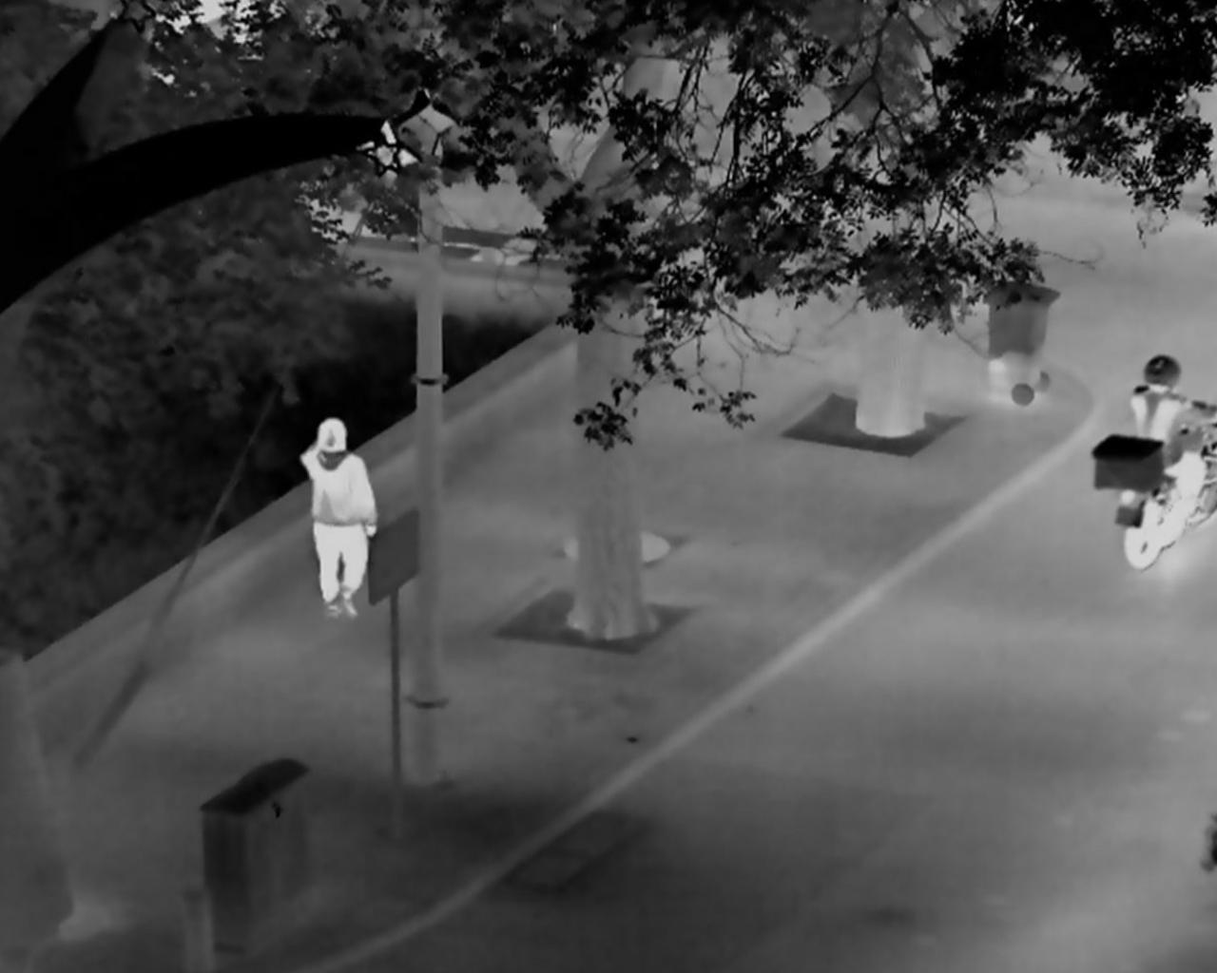person: (296, 416, 377, 620), (1127, 353, 1217, 531)
